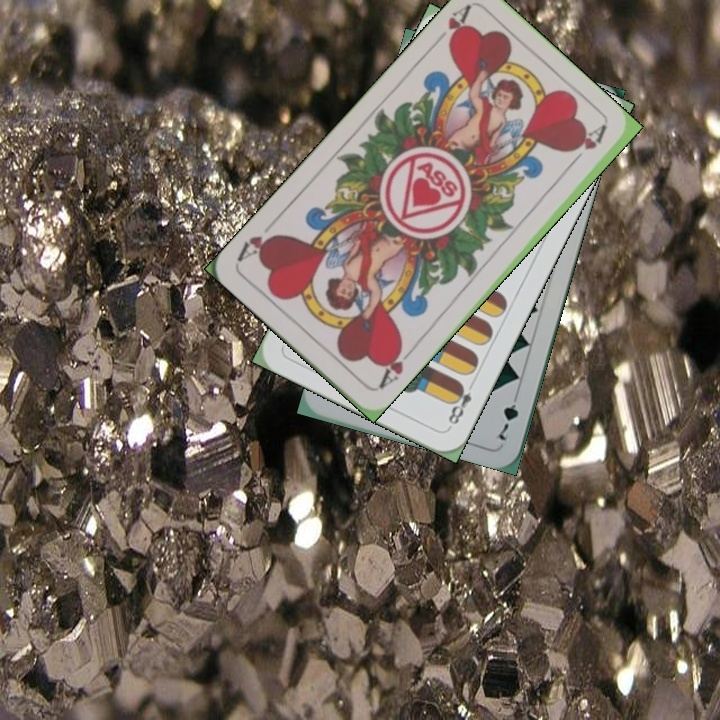E8: (444, 376, 478, 431)
G7: (494, 387, 522, 444)
HA: (374, 339, 417, 392), (428, 1, 473, 50)
